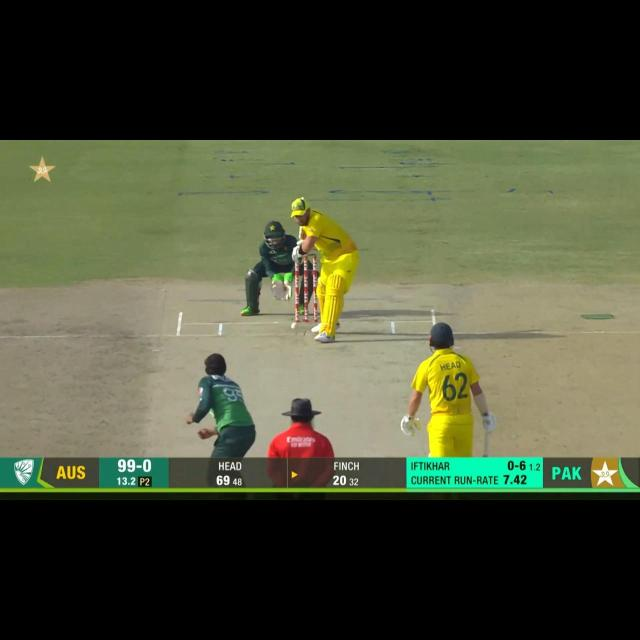bat: (481, 432, 489, 457), (298, 228, 307, 240)
